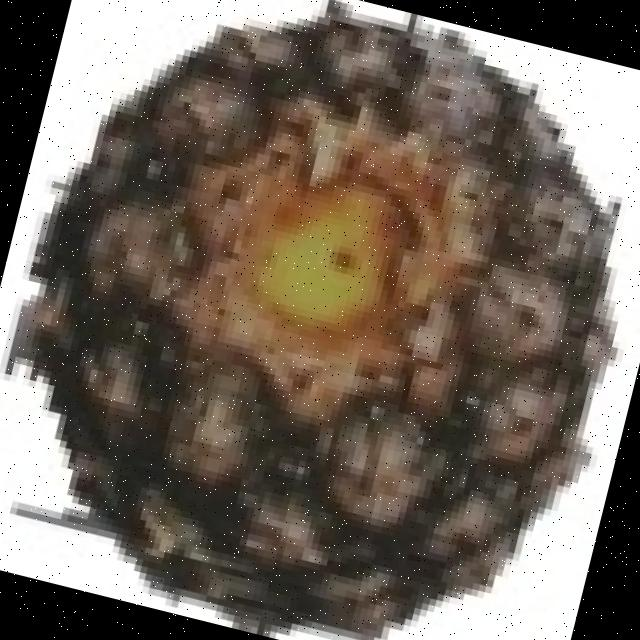pineapple: (30, 14, 624, 632)
